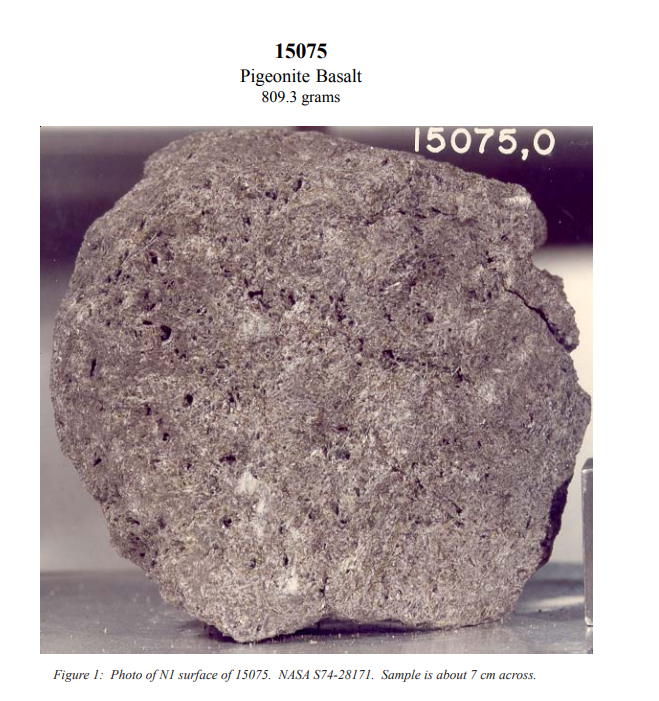Basalt: (39, 127, 594, 651), (113, 232, 493, 549)
